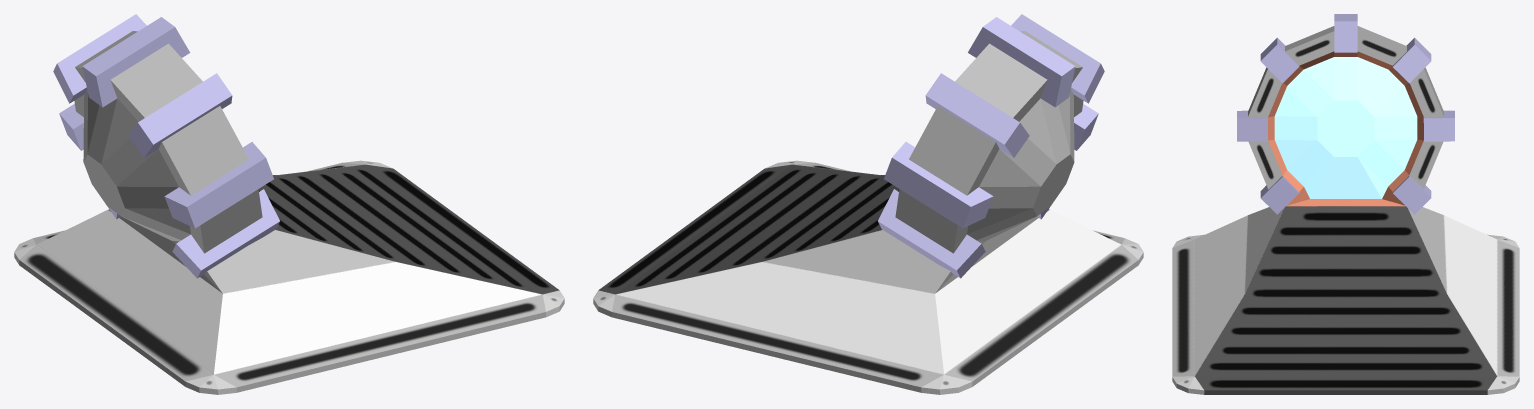
The model's file is portal.glb.
3 views of the same model, side by side, from view 1: azimuth 30°, elevation 25°; view 2: azimuth 150°, elevation 25°; view 3: azimuth 270°, elevation 25° (orthographic). The views are drawn at different scales.
Parts seen in each view (by area): view 1: structural_portal; view 2: structural_portal; view 3: structural_portal.
Boxes of the visible parts, x1=… form: structural_portal: x1=14, y1=14, x2=564, y2=394; structural_portal: x1=593, y1=14, x2=1143, y2=394; structural_portal: x1=1172, y1=14, x2=1519, y2=394.
Size of the model in its own units: 3.7 by 2.63 by 3.37.
2 materials, 1 textured.
